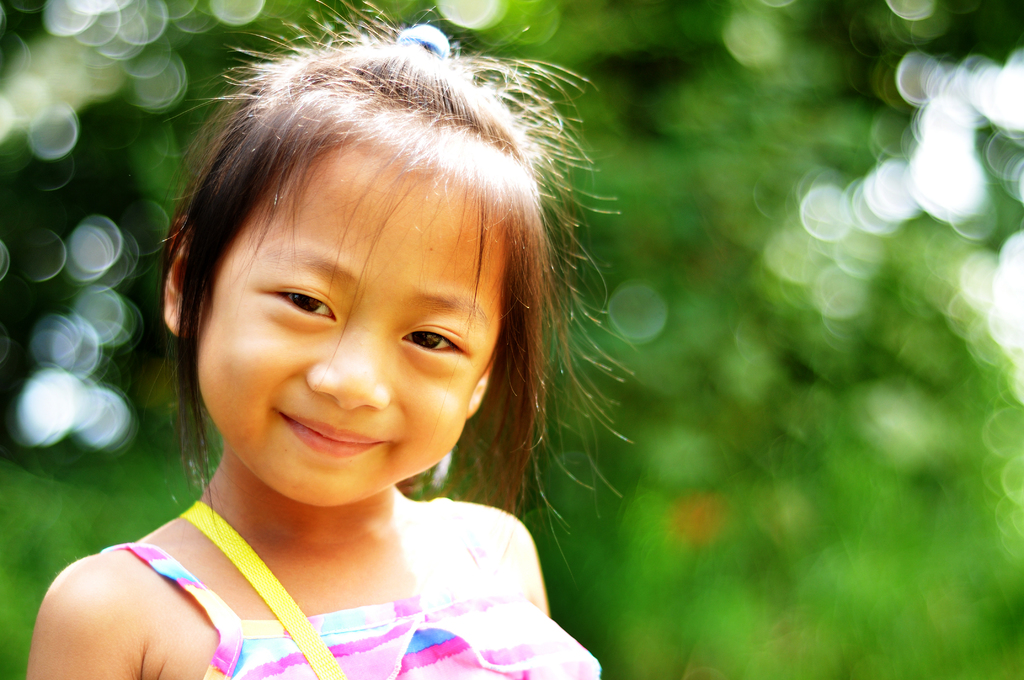face: (155, 25, 572, 511)
